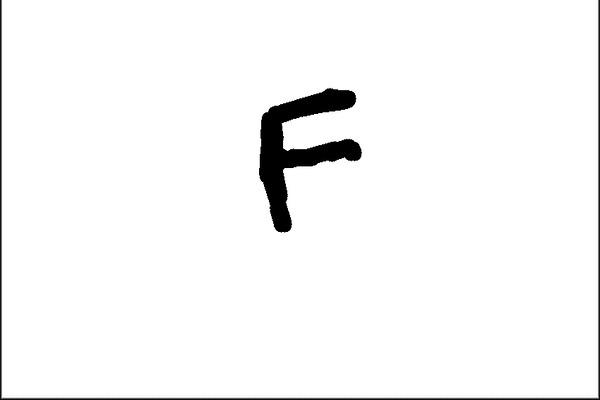F: (252, 83, 366, 235)
